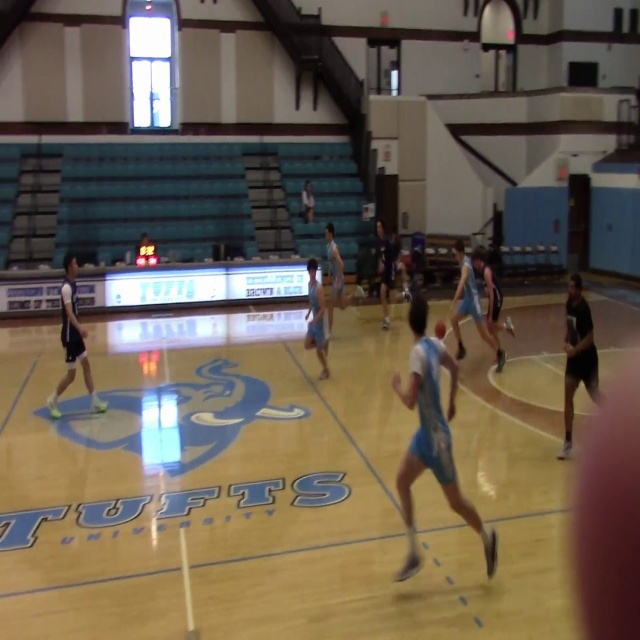Basketball: (434, 321, 446, 339), (304, 334, 316, 349)
